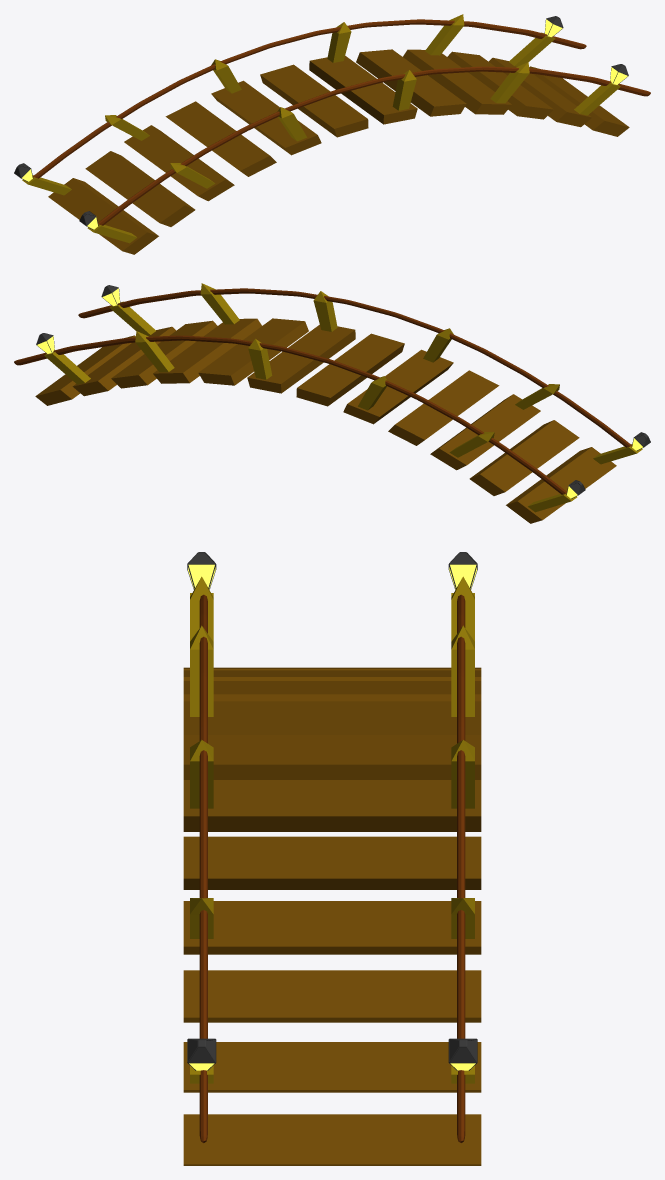
Rendered from Bridge.fbx.
The picture shows the model from 3 angles, top to bottom: view 1: azimuth 30°, elevation 25°; view 2: azimuth 150°, elevation 25°; view 3: azimuth 270°, elevation 25°; orthographic projection. The views are drawn at different scales.
Parts seen in each view (by area): view 1: Bridge; view 2: Bridge; view 3: Bridge.
Part boxes in pixels (left/top/right/bottom): Bridge: left=14, top=14, right=650, bottom=254; Bridge: left=14, top=283, right=650, bottom=523; Bridge: left=183, top=552, right=481, bottom=1165.
Bounding box in the file's own units: 466 × 89.02 × 105.
